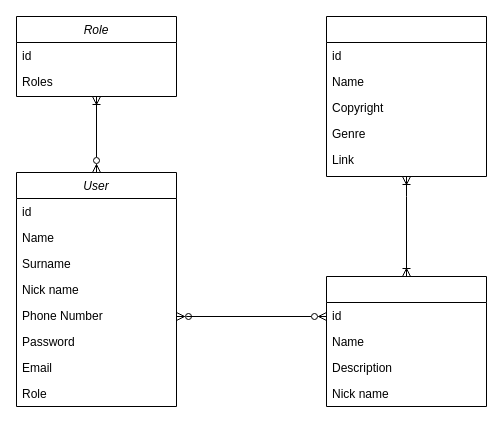
The diagram is 503 pixels wide and 423 high, and some of its shapes have lost their labels. The shapes that lost their labels are listed below. From the top down, each one's box as (x1, y1, x2, y2) in pixels, then its label:
(326, 16, 486, 176): Music
(326, 276, 486, 406): Playlist
